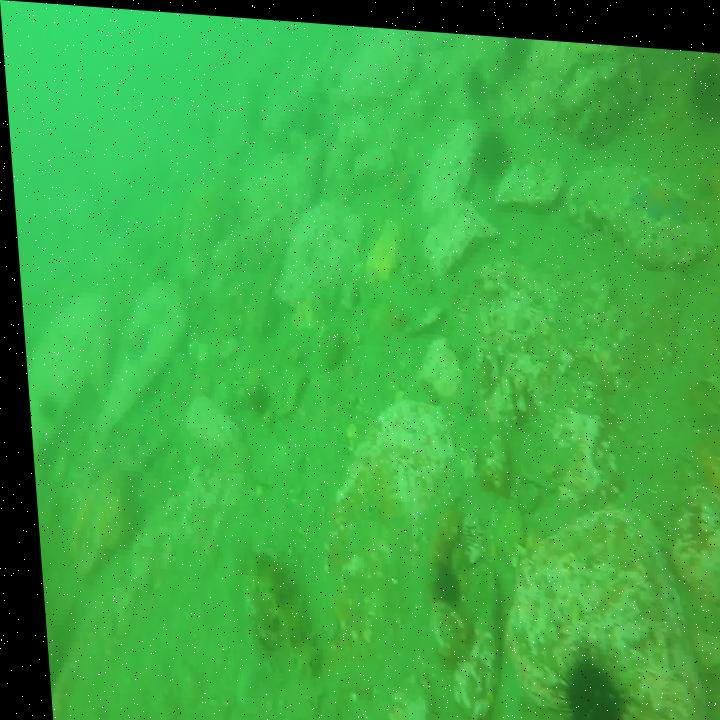echinus: (547, 634, 619, 720), (687, 56, 720, 114), (474, 124, 509, 175), (422, 555, 452, 594), (511, 30, 535, 68), (465, 61, 490, 95)
holothurian: (245, 545, 306, 667)
starfish: (628, 164, 692, 214), (385, 158, 416, 204), (119, 321, 149, 361)
